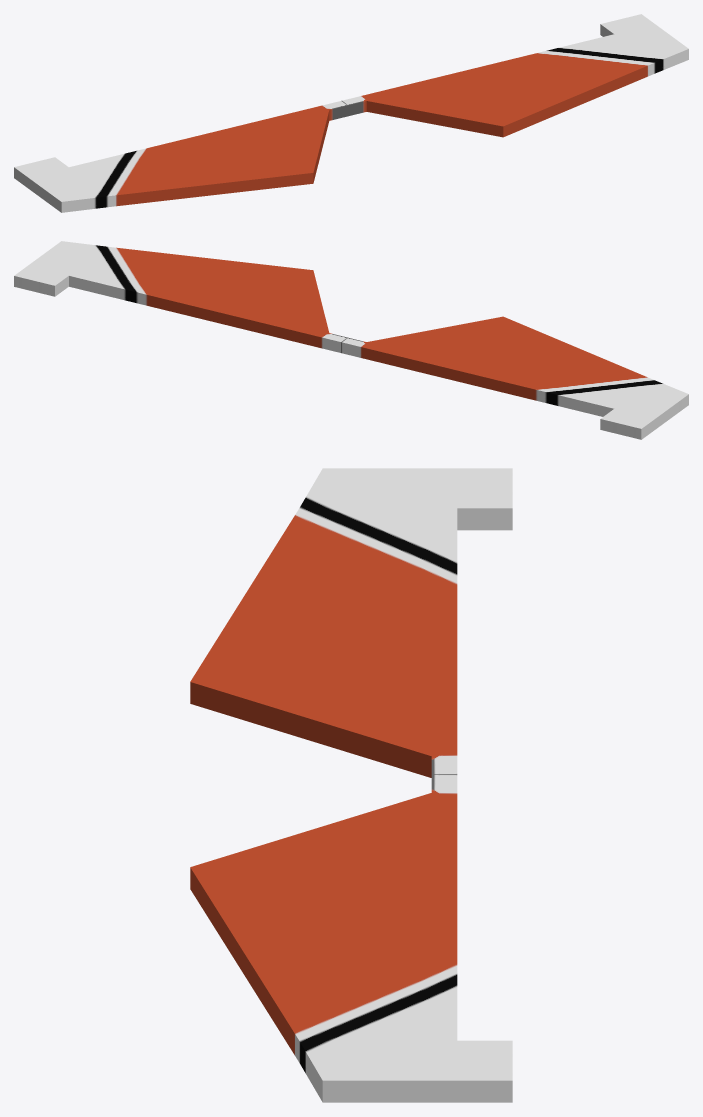
The model's file is Elevator.glb.
3 views of the same model, one above another, from view 1: azimuth 30°, elevation 25°; view 2: azimuth 150°, elevation 25°; view 3: azimuth 270°, elevation 25° (orthographic). The views are drawn at different scales.
Parts seen in each view (by area): view 1: Elevator; view 2: Elevator; view 3: Elevator.
Boxes of the visible parts, bbox=[...] form: Elevator: bbox=[14, 14, 688, 212]; Elevator: bbox=[14, 241, 688, 439]; Elevator: bbox=[190, 468, 512, 1102].
Bounding box in the file's own units: 0.3 × 0.005 × 0.0668.
1 material, 1 textured.
